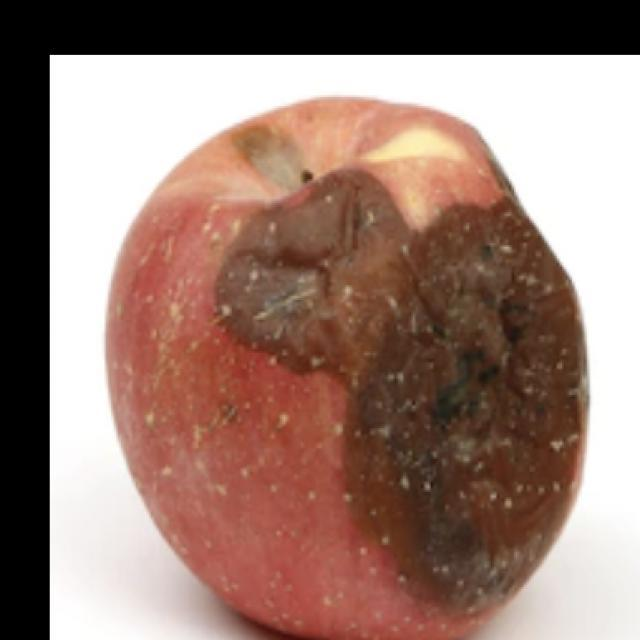Rotten: (114, 100, 594, 640)
